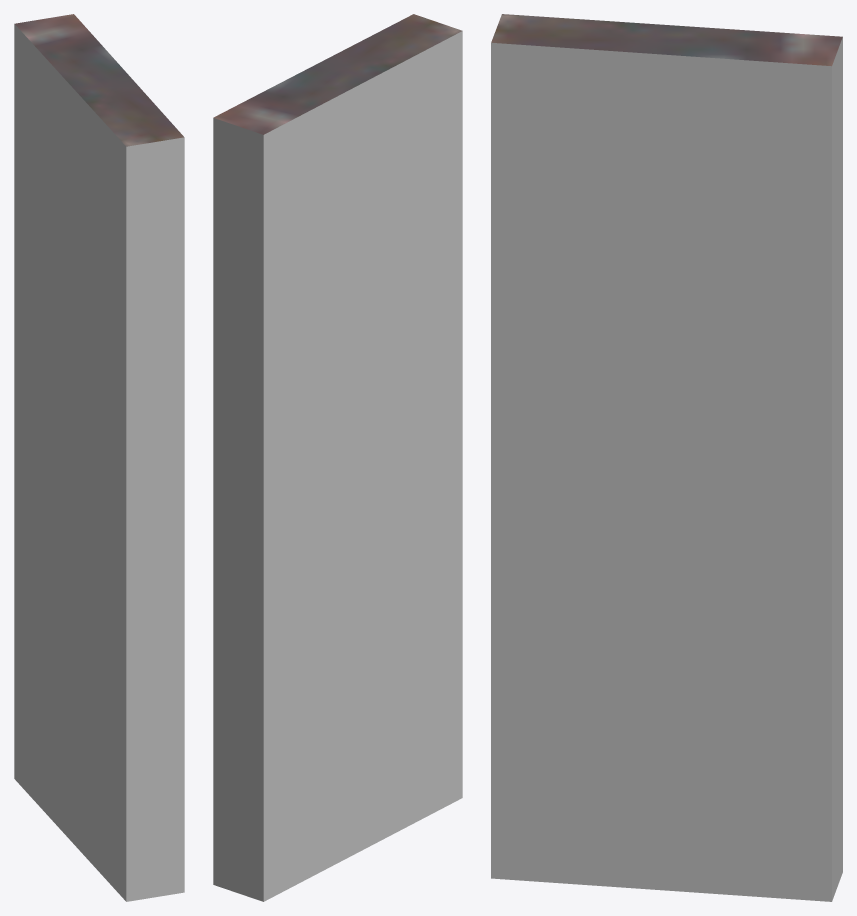
File: DEBW_0010007THYh.gltf
The picture shows the model from 3 angles, left to right: view 1: azimuth 30°, elevation 25°; view 2: azimuth 150°, elevation 25°; view 3: azimuth 270°, elevation 25°; orthographic projection. The views are drawn at different scales.
Parts seen in each view (by area): view 1: Z_UP; view 2: Z_UP; view 3: Z_UP.
Part boxes in pixels (x1,y1,x2,y2): Z_UP: [14, 14, 184, 901]; Z_UP: [213, 14, 462, 901]; Z_UP: [491, 14, 842, 901].
Size of the model in its own units: 2.16 by 16.12 by 6.15.
2 materials, 1 textured.
